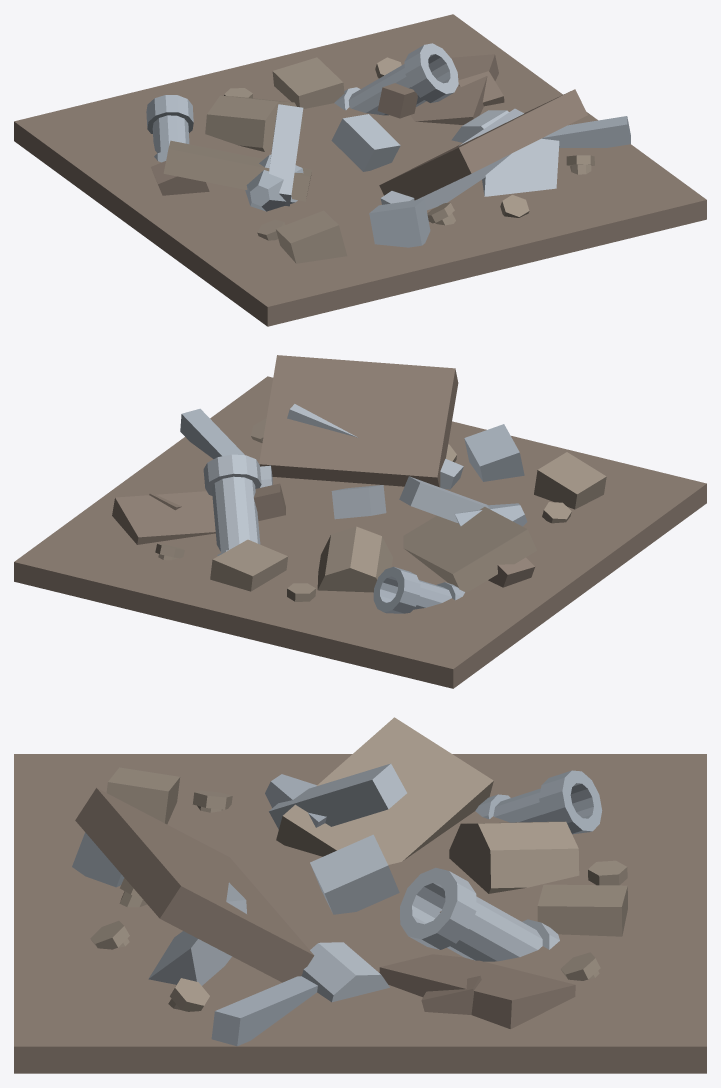
The model's file is rubble_flat.glb.
3 views of the same model, one above another, from view 1: azimuth 30°, elevation 25°; view 2: azimuth 150°, elevation 25°; view 3: azimuth 270°, elevation 25° (orthographic). The views are drawn at different scales.
Visible parts, largest first — view 1: DebrisBase, BrokenPanel_0, BentPipe_0, BrokenPanel_1, CylFrag_0, WedgeFrag, BrokenPanel_2, Chunk_4, Chunk_5, Chunk_1, Chunk_2, BentPipe_1 (+10 smaller); view 2: DebrisBase, BrokenPanel_0, BrokenPanel_1, BentPipe_0, BrokenPanel_2, CylFrag_0, Chunk_4, BentPipe_1, Chunk_1, Chunk_2, Beam_2, Beam_1 (+5 smaller); view 3: DebrisBase, BrokenPanel_0, BrokenPanel_1, BentPipe_0, CylFrag_0, BrokenPanel_2, BentPipe_1, Chunk_5, Beam_2, Chunk_1, Beam_1, CylFrag_1 (+10 smaller).
Part boxes in pixels (box(x1,y1,x2,y2)): DebrisBase: box(14, 14, 706, 326); BrokenPanel_0: box(379, 89, 587, 200); BentPipe_0: box(334, 43, 458, 115); BrokenPanel_1: box(163, 140, 312, 201); CylFrag_0: box(205, 95, 304, 151); WedgeFrag: box(482, 138, 559, 196); BrokenPanel_2: box(410, 54, 498, 124); Chunk_4: box(276, 210, 347, 263); Chunk_5: box(331, 114, 400, 171); Chunk_1: box(272, 57, 344, 108); Chunk_2: box(369, 199, 430, 247); BentPipe_1: box(146, 95, 193, 162); DebrisBase: box(14, 376, 706, 688); BrokenPanel_0: box(259, 355, 458, 487); BrokenPanel_1: box(403, 507, 536, 591); BentPipe_0: box(203, 454, 261, 555); BrokenPanel_2: box(112, 491, 215, 544); CylFrag_0: box(317, 526, 392, 592); Chunk_4: box(534, 452, 606, 509); BentPipe_1: box(373, 566, 464, 613); Chunk_1: box(210, 539, 288, 591); Chunk_2: box(464, 424, 524, 481); Beam_2: box(399, 476, 489, 522); Beam_1: box(180, 408, 244, 458); DebrisBase: box(14, 754, 706, 1073); BrokenPanel_0: box(75, 788, 314, 982); BrokenPanel_1: box(276, 717, 493, 864); BentPipe_0: box(400, 867, 559, 961); CylFrag_0: box(449, 821, 579, 893); BrokenPanel_2: box(379, 954, 575, 1028); BentPipe_1: box(475, 770, 602, 834); Chunk_5: box(310, 834, 399, 914); Beam_2: box(269, 763, 406, 829); Chunk_1: box(537, 884, 627, 936); Beam_1: box(211, 976, 317, 1046); CylFrag_1: box(301, 942, 389, 1002).
Size of the model in its own units: 1.42 by 0.3822 by 1.4.
